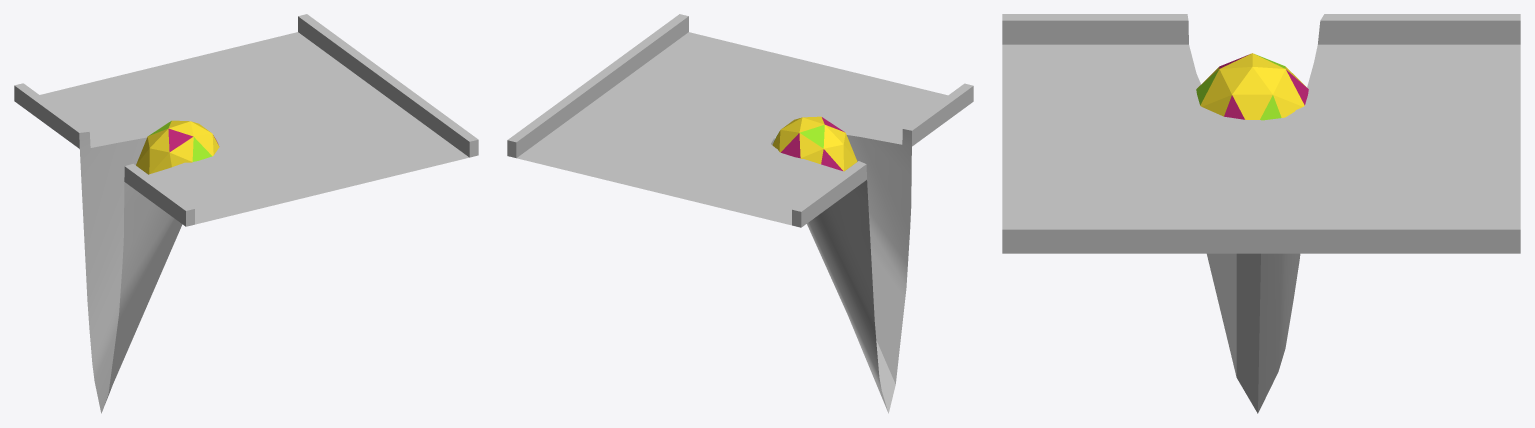
Rendered from мост с сферой1.fbx.
The picture shows the model from 3 angles, left to right: view 1: azimuth 30°, elevation 25°; view 2: azimuth 150°, elevation 25°; view 3: azimuth 270°, elevation 25°; orthographic projection. The views are drawn at different scales.
Parts seen in each view (by area): view 1: сост с ферой; view 2: сост с ферой; view 3: сост с ферой.
Part boxes in pixels (x1,y1,x2,y2): сост с ферой: (14,14,478,413); сост с ферой: (507,14,973,413); сост с ферой: (1002,14,1520,413).
Bounding box in the file's own units: 6.08 × 5.41 × 6.18.
